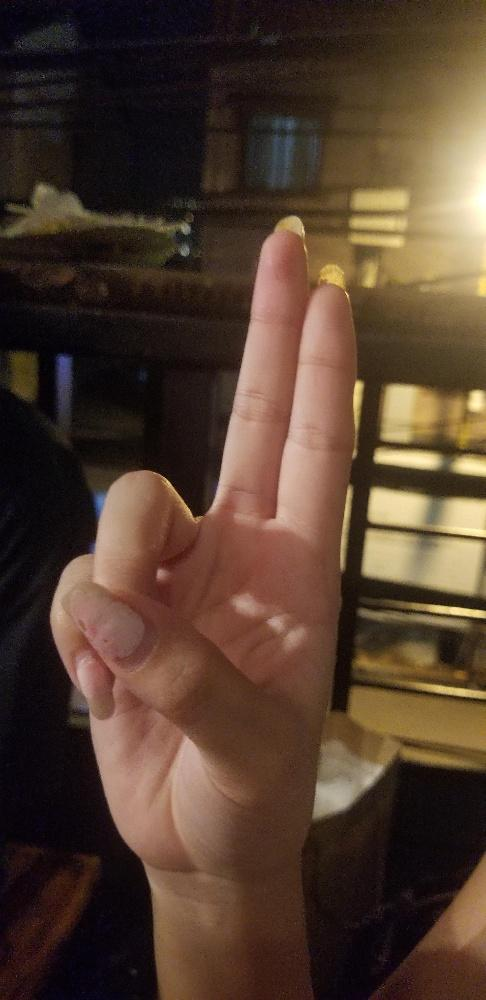u: (45, 208, 362, 882)
